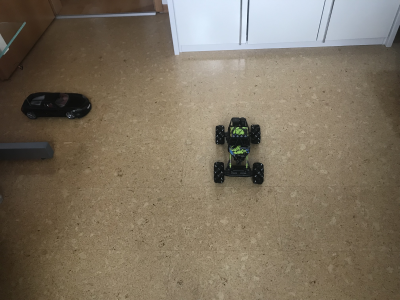remote control car: (208, 116, 267, 186)
